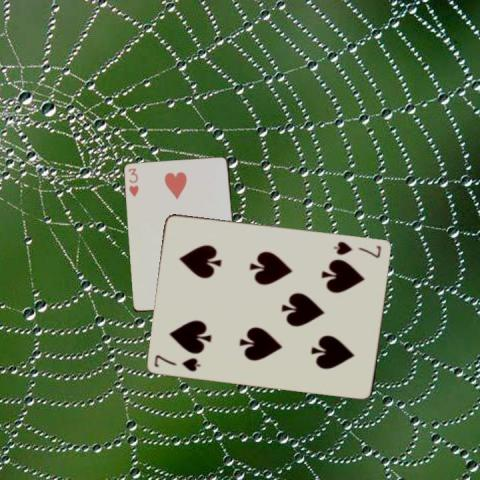3h: (125, 165, 140, 198)
7s: (151, 351, 203, 373), (331, 238, 383, 259)
